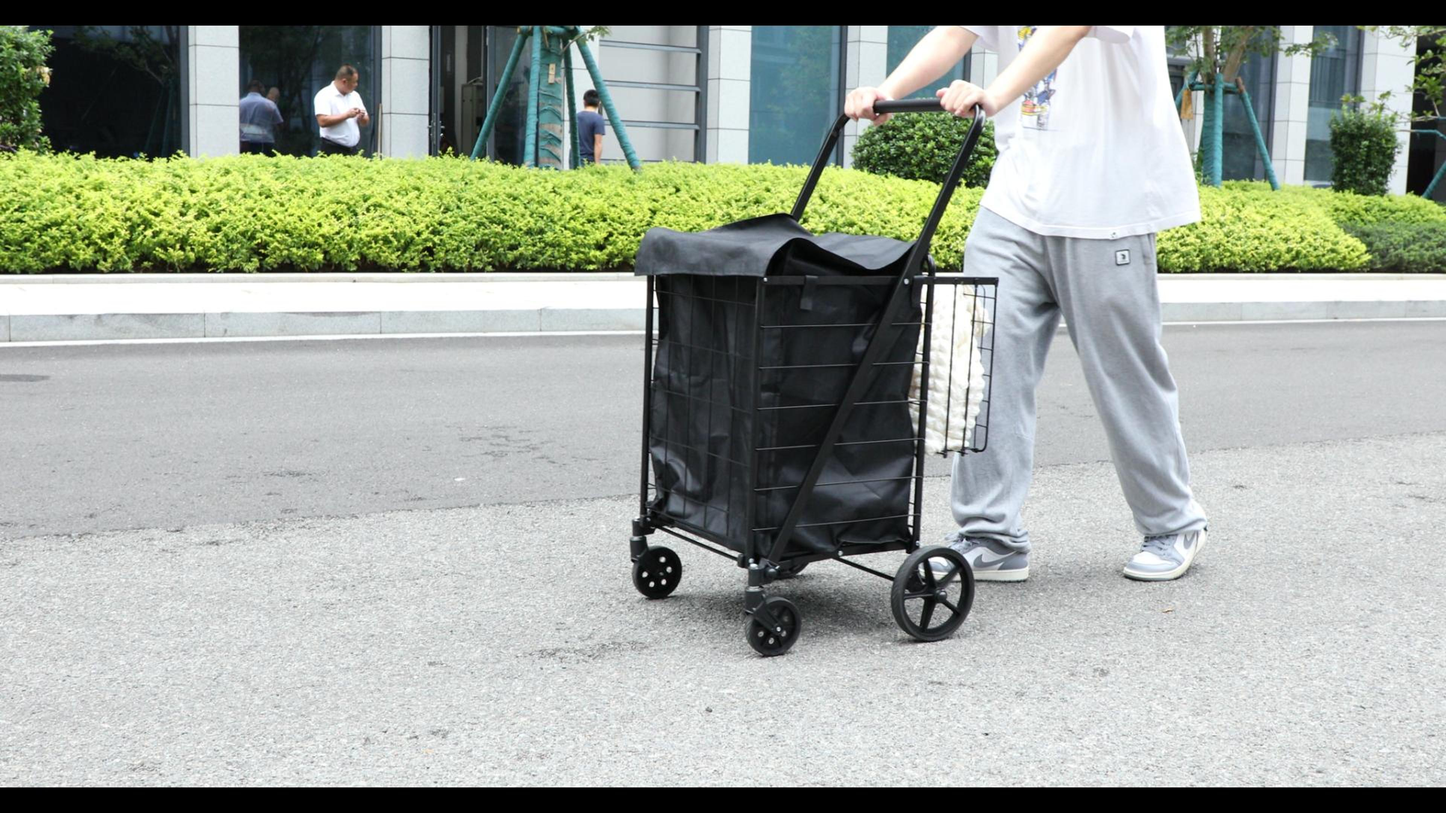Person: (317, 52, 383, 150)
shopping_cart: (632, 94, 1002, 655)
